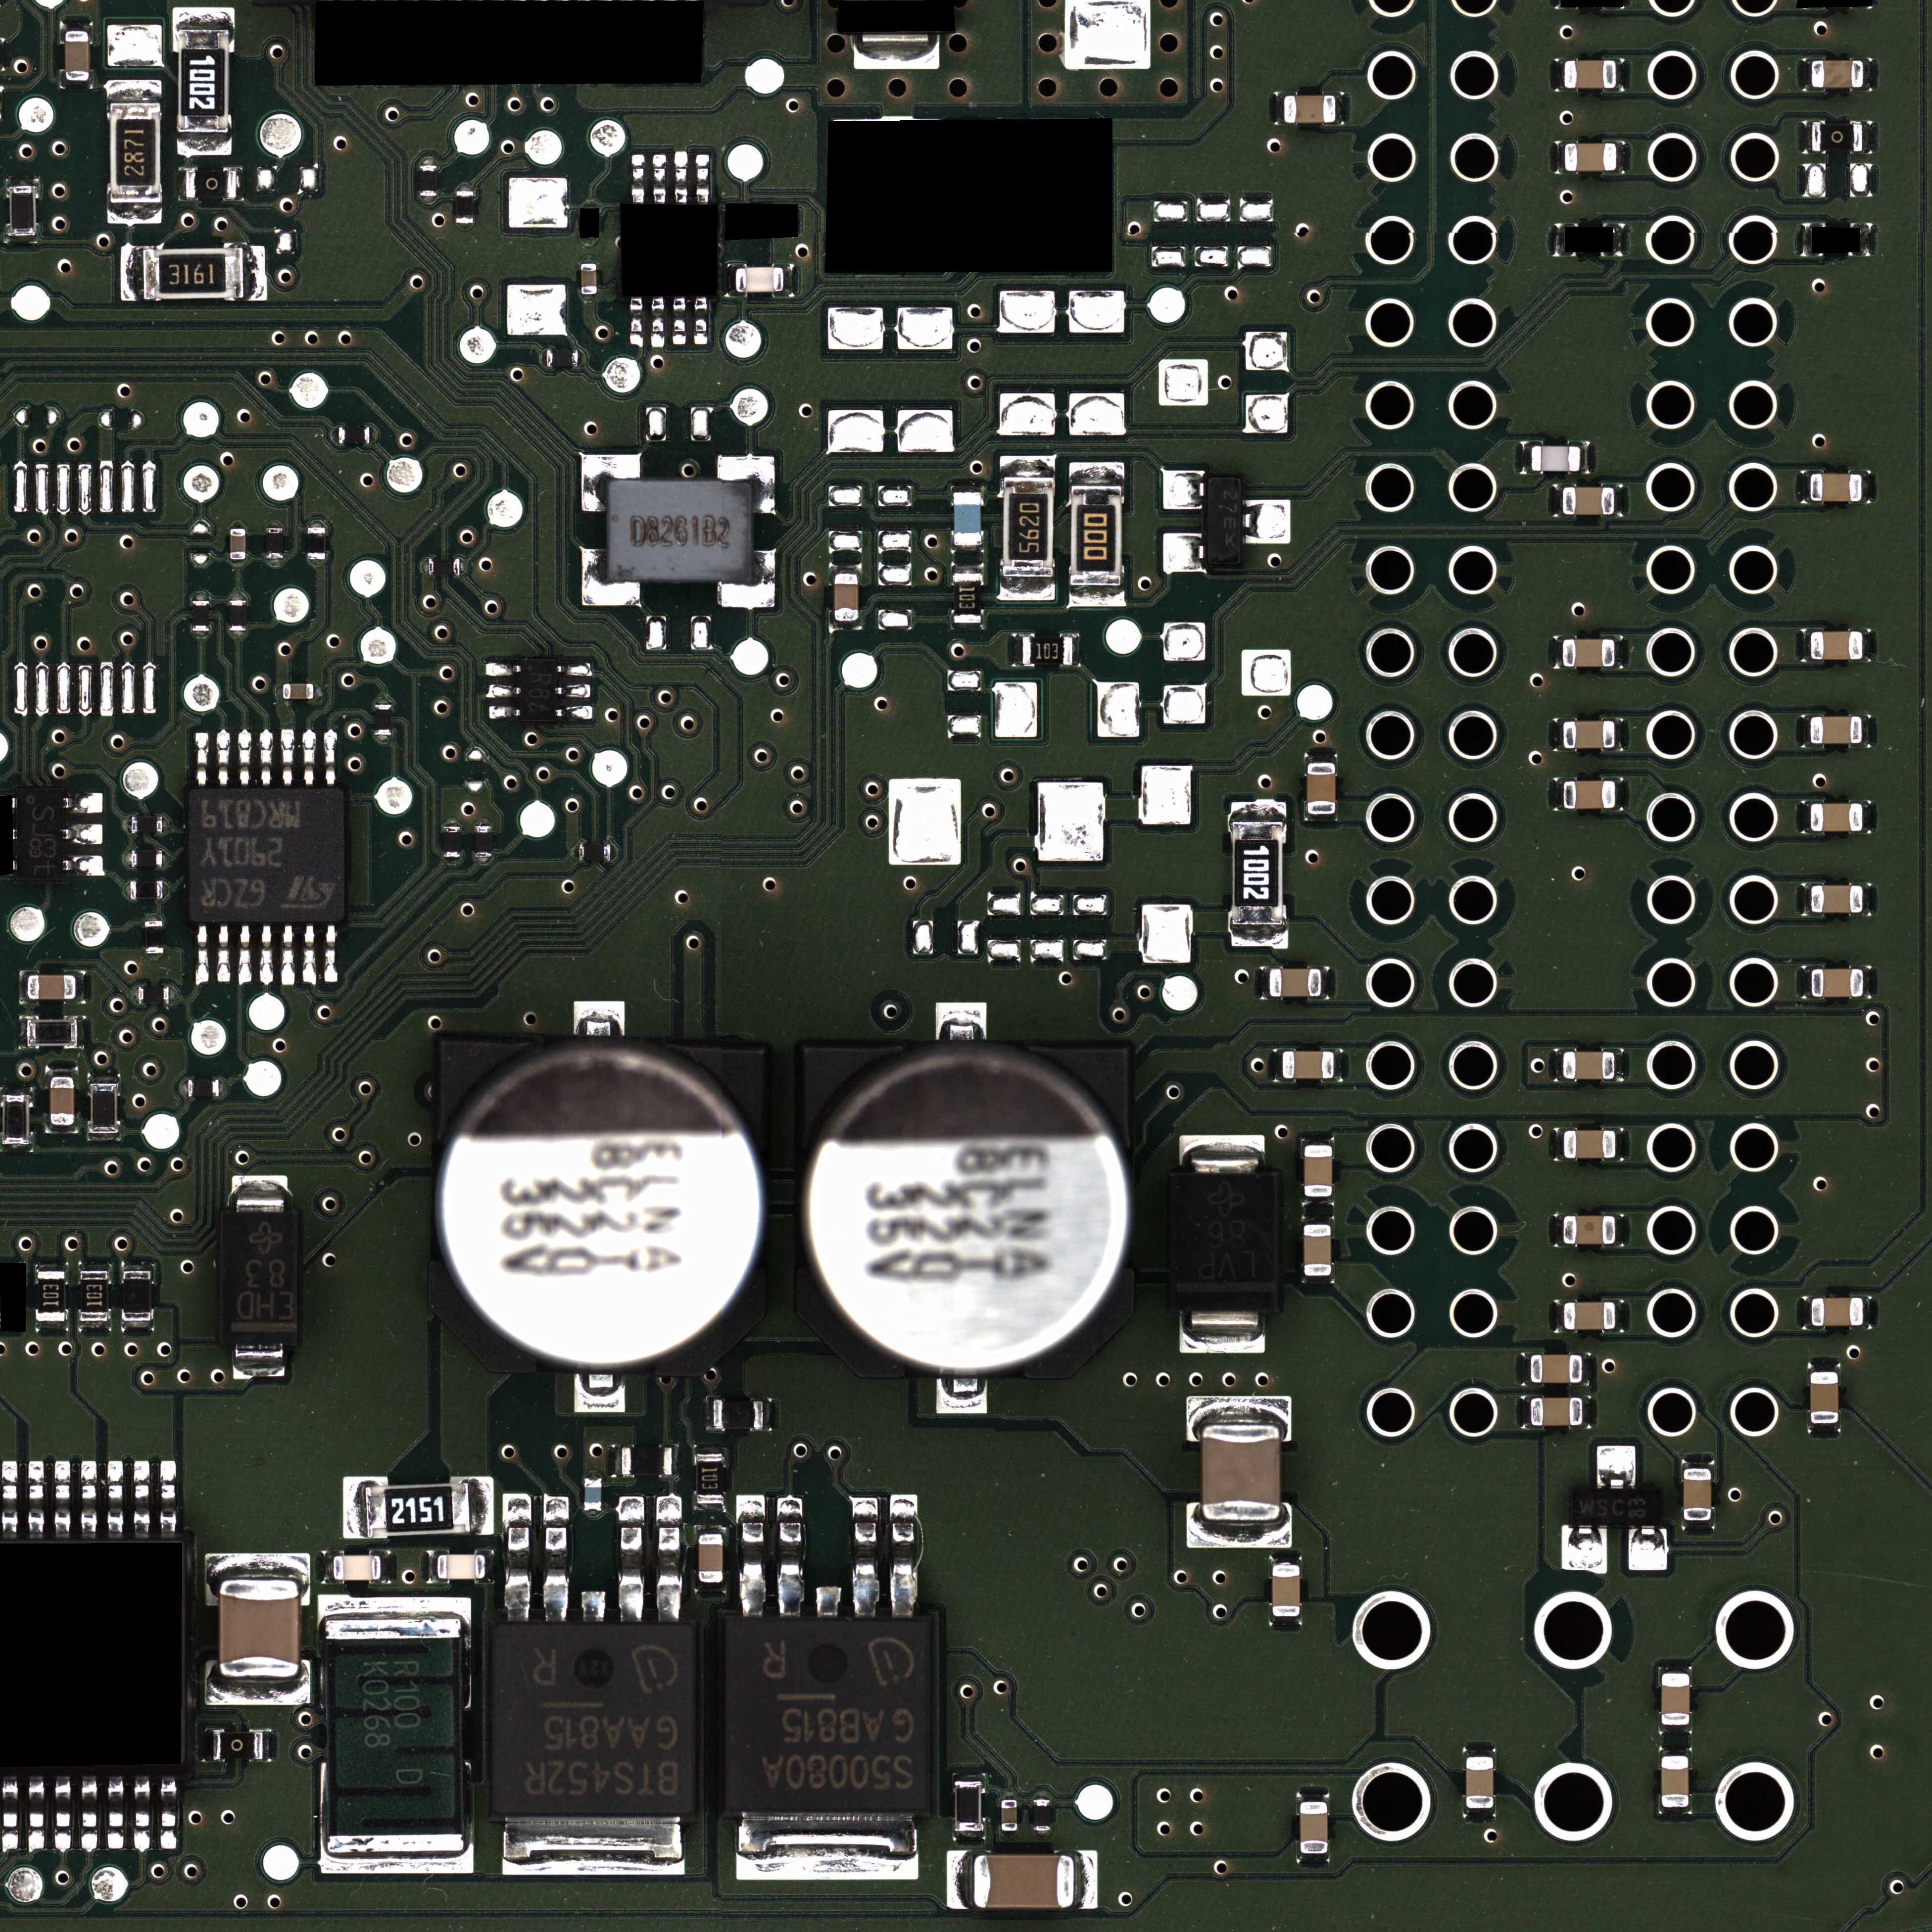Package: (430, 1037, 771, 1375), (797, 1042, 1133, 1379), (724, 1616, 935, 1814), (489, 1623, 696, 1819), (326, 1619, 462, 1853), (187, 787, 346, 925), (1167, 1170, 1276, 1311), (603, 480, 755, 581), (221, 1210, 300, 1346), (217, 1580, 300, 1678), (1200, 1425, 1283, 1520), (177, 29, 231, 133), (1231, 821, 1284, 925), (367, 1483, 469, 1536), (973, 1854, 1075, 1908), (1071, 485, 1123, 586), (1002, 477, 1054, 578), (109, 102, 161, 202), (143, 248, 244, 299), (17, 787, 62, 881), (1572, 1488, 1661, 1526), (1206, 477, 1242, 566), (520, 659, 557, 720), (1810, 631, 1863, 660), (1563, 1215, 1615, 1245), (1564, 1130, 1616, 1159), (1810, 803, 1862, 832), (1811, 60, 1863, 89), (1564, 143, 1616, 172), (1564, 60, 1616, 89), (1811, 968, 1863, 997), (1269, 968, 1321, 997), (1811, 1298, 1863, 1326), (713, 1400, 763, 1430), (1562, 639, 1615, 667), (1810, 474, 1862, 502), (1531, 1354, 1582, 1383), (1661, 1674, 1690, 1725), (1284, 95, 1336, 123), (1304, 1145, 1332, 1197), (1563, 781, 1615, 809), (1811, 885, 1863, 913), (1531, 1398, 1583, 1426), (1683, 1468, 1711, 1520), (1812, 123, 1863, 152), (622, 1447, 672, 1476), (1300, 1801, 1328, 1854), (1563, 487, 1614, 515), (1810, 1372, 1838, 1423), (1307, 763, 1335, 814), (1272, 1565, 1300, 1617), (1563, 1052, 1615, 1079), (1563, 721, 1615, 749), (1810, 716, 1862, 744), (1282, 1051, 1334, 1079), (1466, 1757, 1494, 1809), (954, 493, 981, 546), (1564, 1302, 1615, 1330), (186, 170, 236, 198), (1304, 1224, 1331, 1276), (954, 573, 981, 623), (1661, 1756, 1689, 1807), (1022, 637, 1072, 665), (80, 1271, 108, 1321), (696, 1454, 724, 1504), (37, 1271, 65, 1321), (213, 1732, 263, 1760), (124, 1271, 151, 1321), (28, 1020, 77, 1046), (955, 1781, 981, 1831), (10, 186, 36, 236), (1531, 446, 1581, 472), (91, 1083, 117, 1133), (3, 1095, 29, 1144), (64, 31, 89, 80), (699, 1534, 723, 1583), (28, 975, 76, 1000), (333, 1555, 381, 1580), (834, 574, 859, 621), (437, 1554, 485, 1579), (50, 1076, 74, 1125), (736, 267, 783, 292), (130, 880, 163, 899), (307, 527, 326, 559), (145, 921, 163, 953), (456, 191, 474, 223), (338, 427, 370, 444), (584, 1478, 601, 1510), (131, 850, 162, 867), (419, 165, 437, 196), (266, 528, 284, 558), (547, 350, 578, 367), (1033, 1799, 1051, 1831), (188, 1080, 219, 1097), (192, 600, 209, 631), (443, 826, 461, 857), (375, 704, 391, 735), (429, 559, 460, 576), (580, 844, 611, 861), (139, 986, 169, 1003), (131, 817, 162, 833), (476, 825, 492, 856), (229, 600, 246, 630), (230, 529, 245, 559), (1002, 1800, 1017, 1831), (581, 263, 596, 294), (283, 683, 313, 699)
Solder: (736, 1816, 918, 1880), (503, 1819, 684, 1875), (504, 1494, 532, 1622), (1179, 1312, 1265, 1353), (542, 1496, 570, 1621), (618, 1496, 645, 1622), (320, 1852, 474, 1874), (890, 1495, 918, 1616), (581, 454, 640, 512), (317, 1596, 471, 1618), (738, 1495, 766, 1616), (582, 549, 640, 605), (657, 1493, 681, 1622), (852, 1497, 879, 1617), (718, 456, 774, 513), (777, 1497, 804, 1616), (853, 34, 940, 70), (721, 551, 775, 607), (1186, 1396, 1292, 1424), (1186, 1520, 1292, 1548), (206, 1678, 310, 1706), (1179, 1135, 1264, 1167), (205, 1553, 310, 1579), (1561, 1527, 1607, 1572), (1244, 500, 1291, 543), (574, 1372, 625, 1412), (935, 1002, 987, 1040), (232, 1175, 288, 1208), (936, 1377, 987, 1414), (574, 1001, 625, 1035), (232, 1347, 285, 1379), (1597, 1446, 1636, 1488), (1629, 1528, 1667, 1571), (1163, 470, 1205, 509), (1163, 533, 1205, 572), (947, 1850, 972, 1909), (27, 1776, 46, 1853), (54, 1777, 73, 1854), (134, 1777, 152, 1853), (1, 1460, 20, 1534), (53, 1460, 72, 1534), (106, 1460, 125, 1534), (80, 1460, 98, 1534), (159, 1461, 178, 1535), (133, 1460, 151, 1534), (107, 1777, 126, 1850), (27, 1460, 46, 1534), (343, 1477, 366, 1539), (81, 1776, 98, 1853), (470, 1477, 494, 1535), (80, 1460, 98, 1534), (2, 1776, 19, 1854), (27, 1460, 46, 1534), (173, 7, 235, 29), (159, 1777, 177, 1851), (1075, 1851, 1098, 1909), (999, 578, 1055, 601), (1069, 462, 1124, 485), (1231, 926, 1288, 948), (106, 80, 162, 102), (244, 245, 266, 301), (121, 245, 142, 301), (178, 134, 232, 156), (1068, 586, 1125, 607), (1000, 456, 1056, 477), (1230, 801, 1286, 821), (107, 204, 162, 225), (63, 855, 106, 876), (63, 792, 103, 814), (63, 823, 103, 845), (302, 925, 317, 985), (281, 925, 295, 985), (581, 1590, 606, 1623), (195, 926, 209, 985), (260, 925, 273, 985), (324, 926, 338, 983), (239, 925, 251, 985), (217, 729, 230, 785), (281, 729, 294, 785), (816, 1587, 841, 1616), (259, 729, 273, 785), (217, 926, 230, 983), (195, 731, 208, 786), (239, 729, 251, 785), (303, 729, 316, 785), (651, 296, 665, 347), (675, 151, 688, 204), (696, 154, 710, 204), (324, 729, 336, 786), (653, 153, 666, 204), (673, 296, 686, 345), (631, 154, 645, 204), (694, 297, 708, 345), (630, 297, 643, 346), (557, 706, 592, 720), (485, 663, 520, 676), (557, 684, 591, 697), (557, 663, 591, 676), (486, 685, 520, 698), (489, 706, 520, 719), (1012, 634, 1022, 667), (1554, 224, 1565, 257), (1614, 224, 1624, 256), (1801, 121, 1811, 153), (726, 264, 736, 296), (1521, 441, 1531, 474), (612, 1444, 622, 1479), (1581, 441, 1591, 474), (323, 1551, 333, 1584), (783, 263, 793, 295), (1807, 1424, 1841, 1433), (1801, 800, 1810, 834), (1462, 1809, 1496, 1819), (953, 1832, 986, 1841), (1860, 223, 1870, 256), (1553, 484, 1563, 517), (1802, 966, 1811, 999), (263, 1729, 273, 1762), (1304, 753, 1337, 762), (1802, 57, 1811, 92), (1521, 1396, 1530, 1428), (1801, 1297, 1811, 1329), (122, 1321, 154, 1331), (1554, 1301, 1563, 1333), (1659, 1746, 1691, 1756), (46, 1067, 78, 1076), (79, 1321, 111, 1331), (1297, 1854, 1329, 1863), (694, 1584, 726, 1593), (1802, 883, 1811, 917), (76, 971, 86, 1003), (829, 564, 861, 573), (952, 564, 983, 573), (764, 1398, 773, 1431), (1274, 92, 1283, 125), (1803, 223, 1812, 256), (1801, 628, 1810, 662), (1336, 92, 1345, 125), (1521, 1353, 1530, 1386), (428, 1551, 437, 1584), (1260, 967, 1269, 1000), (1554, 778, 1563, 811), (36, 1321, 68, 1330), (381, 1551, 390, 1584), (1801, 715, 1810, 747), (204, 1730, 213, 1762), (1273, 1049, 1282, 1083), (1334, 1048, 1343, 1082), (704, 1398, 713, 1432), (1808, 1362, 1840, 1371), (1463, 1747, 1496, 1756), (1297, 1792, 1329, 1801), (1302, 1276, 1334, 1285), (1553, 636, 1562, 669), (829, 622, 862, 630), (1864, 1297, 1873, 1329), (1863, 122, 1872, 154), (1862, 714, 1871, 748), (1863, 800, 1871, 834), (79, 1261, 111, 1270), (1616, 1301, 1625, 1332), (1269, 1617, 1303, 1626), (1583, 1396, 1591, 1429), (1863, 883, 1871, 916), (19, 1016, 27, 1050), (89, 1074, 120, 1083), (1682, 1521, 1714, 1530), (1554, 719, 1563, 751), (1801, 471, 1810, 503), (1862, 471, 1871, 503), (1863, 629, 1871, 662), (19, 970, 28, 1003), (953, 1772, 985, 1781), (1615, 636, 1624, 668), (122, 1262, 154, 1270), (485, 1550, 494, 1582), (1615, 484, 1623, 517), (1302, 1197, 1334, 1206), (1615, 1214, 1624, 1247), (1615, 1049, 1623, 1081), (1302, 1215, 1334, 1224), (1616, 59, 1625, 91), (1555, 59, 1564, 91), (1556, 141, 1564, 172), (1617, 142, 1625, 173), (1864, 966, 1872, 999), (696, 1525, 725, 1534), (4, 236, 38, 244), (1682, 1460, 1715, 1468), (1555, 1214, 1563, 1247), (1321, 966, 1329, 1000), (1615, 718, 1623, 751), (36, 1262, 67, 1271), (1270, 1556, 1302, 1564), (78, 1016, 86, 1048), (6, 178, 39, 186), (59, 81, 92, 89), (60, 22, 93, 30), (1582, 1353, 1590, 1386), (1555, 1128, 1563, 1160), (1555, 1049, 1563, 1082), (1864, 58, 1872, 91), (1659, 1726, 1691, 1734), (1616, 1128, 1624, 1160), (178, 167, 186, 201), (673, 1444, 680, 1478), (88, 1133, 119, 1141), (694, 1504, 725, 1512), (47, 1125, 78, 1133), (694, 1445, 725, 1453), (1659, 1665, 1691, 1673), (1302, 1137, 1334, 1144), (237, 167, 244, 200), (0, 1087, 33, 1094), (1616, 778, 1623, 810), (1305, 815, 1337, 822), (1073, 634, 1080, 667), (951, 546, 984, 553), (1659, 1807, 1691, 1814), (0, 1145, 33, 1152), (952, 623, 982, 630), (951, 486, 983, 492), (443, 819, 461, 826), (443, 857, 461, 865), (370, 427, 378, 444), (331, 427, 338, 444), (131, 986, 139, 1003), (169, 986, 176, 1003), (266, 558, 283, 566), (145, 953, 163, 960), (419, 158, 437, 165), (581, 238, 597, 245), (123, 850, 131, 867), (266, 521, 283, 528), (475, 856, 492, 863), (419, 196, 437, 203), (1034, 1792, 1050, 1799), (1033, 1830, 1049, 1837), (1001, 1831, 1018, 1838), (308, 559, 325, 566), (475, 818, 492, 825), (581, 201, 598, 208), (580, 256, 597, 263), (584, 1471, 601, 1478), (456, 185, 473, 191), (314, 683, 320, 700), (375, 698, 392, 704), (422, 559, 429, 576), (375, 736, 392, 742), (308, 521, 325, 527), (276, 683, 283, 699), (585, 1511, 601, 1518), (193, 631, 209, 637), (230, 631, 246, 637), (229, 594, 245, 600), (193, 594, 209, 600), (230, 559, 246, 566), (229, 522, 245, 529), (581, 294, 596, 301), (456, 223, 474, 229), (145, 915, 163, 920), (1001, 1793, 1017, 1799), (124, 881, 130, 897), (219, 1080, 225, 1097), (182, 1080, 188, 1097), (611, 844, 617, 861), (578, 350, 583, 367), (541, 349, 547, 366), (460, 559, 466, 576), (574, 844, 580, 860), (163, 882, 168, 898), (162, 850, 167, 867), (127, 817, 131, 833), (163, 817, 167, 833)
